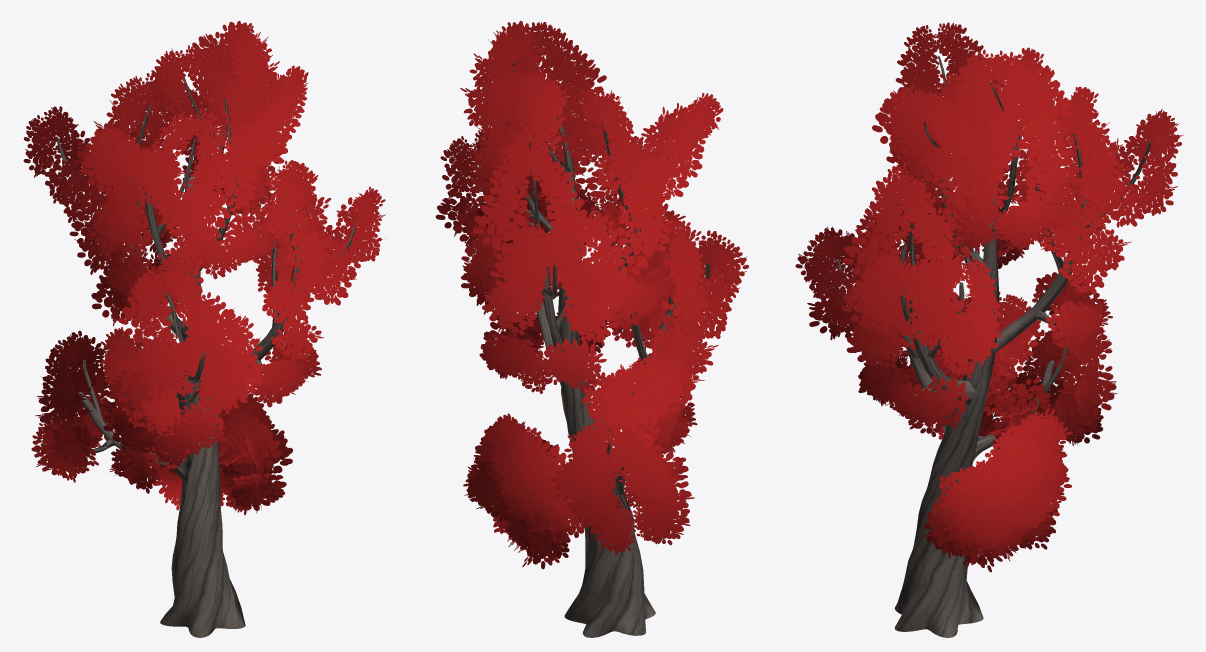
Rendered from TwistedTree_4.gltf.
3 renders of one model, left to right at view 1: azimuth 30°, elevation 25°; view 2: azimuth 150°, elevation 25°; view 3: azimuth 270°, elevation 25°, orthographic. The views are drawn at different scales.
Visible parts, largest first — view 1: TwistedTree_4; view 2: TwistedTree_4; view 3: TwistedTree_4.
Boxes of the visible parts, box(x1,y1,x2,y2) form: TwistedTree_4: box(23, 21, 385, 637); TwistedTree_4: box(435, 21, 748, 637); TwistedTree_4: box(795, 22, 1183, 637).
Bounding box in the file's own units: 10.38 × 18.74 × 11.29.
2 materials, 2 textured.
